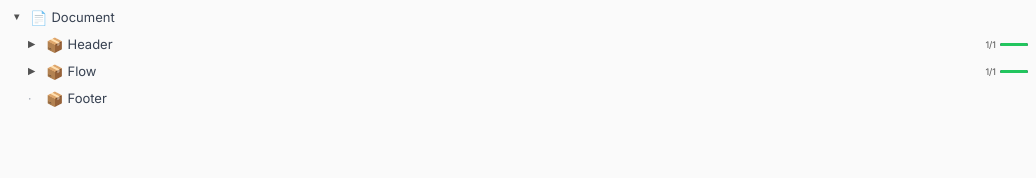
Test: StructureTree › renders optional badge for nodes with isOptional=true
The width and height of the screenshot is (1036, 178).
Expected: the list item with class "structure-tree-node" showing "▶ 📦 Flow 1/1" is shown, 12,58 -> 1035,85
Click the element with class "structure-tree-node__toggle" next to "Flow". click: (32, 71)
box: 28,65 -> 35,76
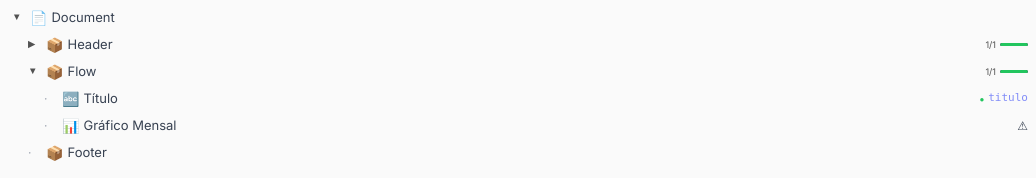
Result: the text "⚠" is shown at 1017,116 -> 1028,134
